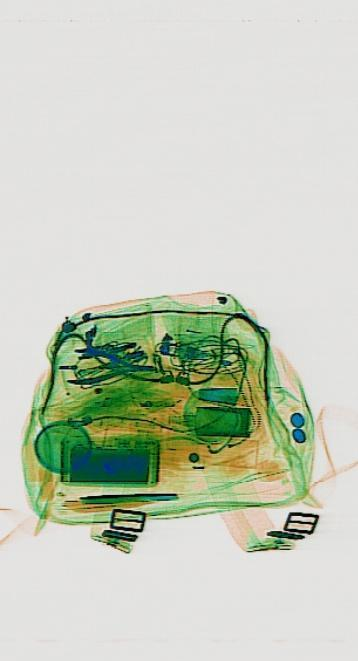Pliers: (65, 346, 153, 383)
